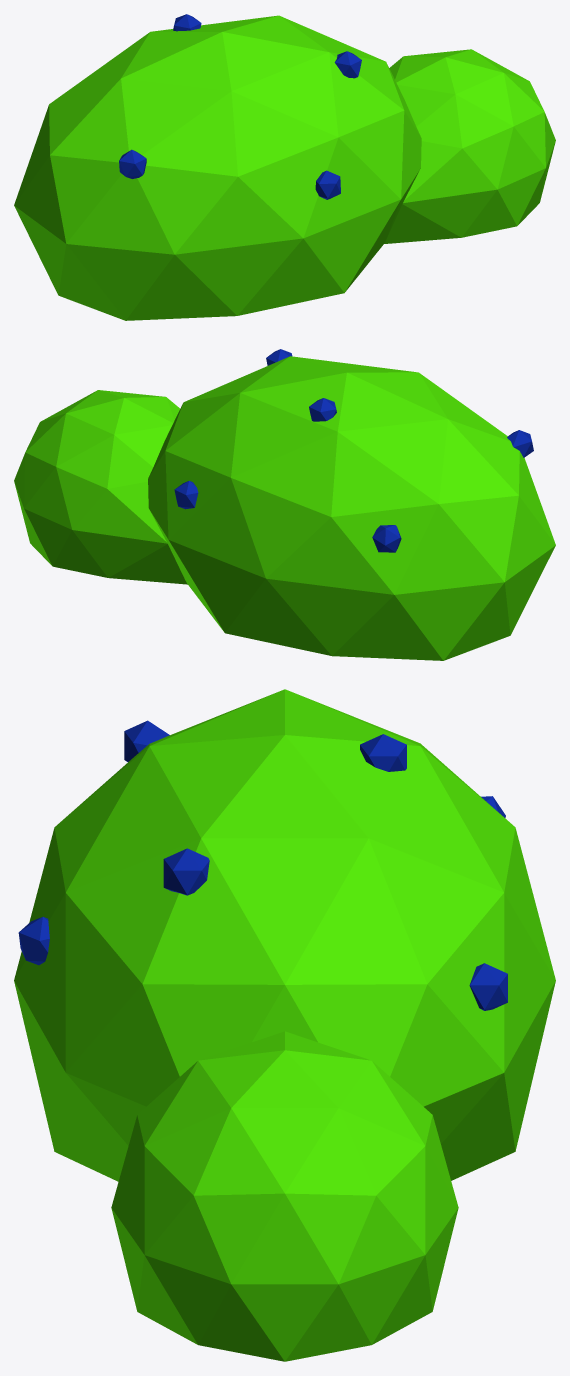
The model's file is bush2.fbx.
The picture shows the model from 3 angles, top to bottom: view 1: azimuth 30°, elevation 25°; view 2: azimuth 150°, elevation 25°; view 3: azimuth 270°, elevation 25°; orthographic projection. The views are drawn at different scales.
Visible parts, largest first — view 1: Icosphere.046; view 2: Icosphere.046; view 3: Icosphere.046.
Part boxes in pixels (x1,y1,x2,y2): Icosphere.046: [14, 14, 555, 320]; Icosphere.046: [14, 349, 555, 660]; Icosphere.046: [14, 689, 555, 1361].
Size of the model in its own units: 356 by 152 by 200.
